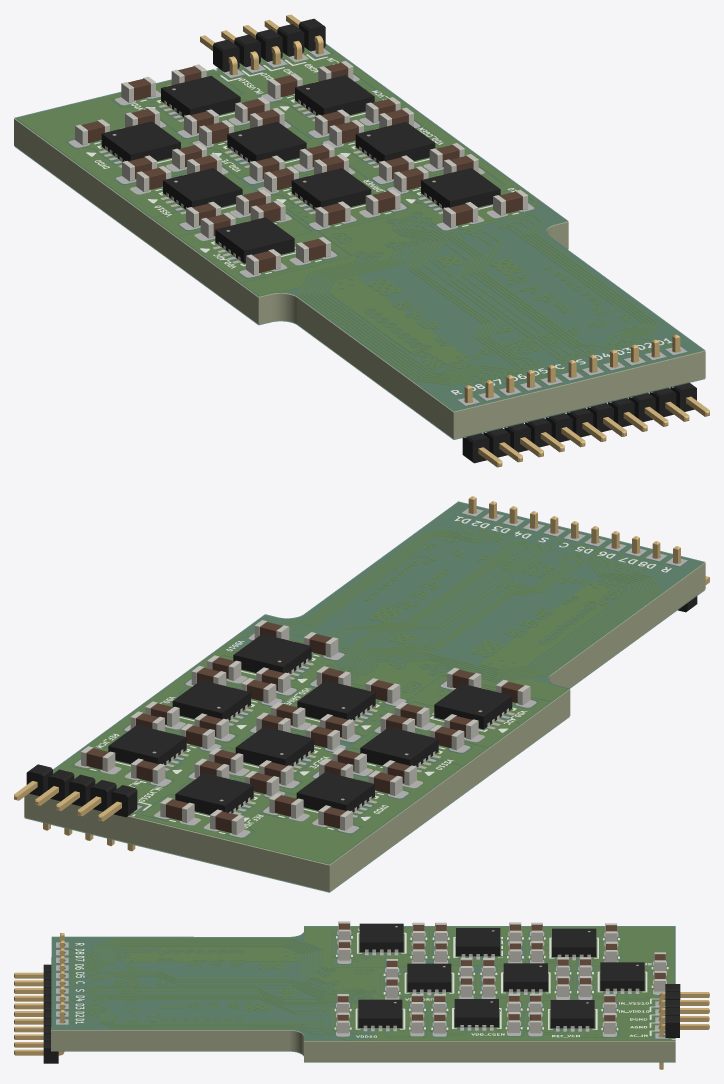
The model's file is LDO.glb.
3 views of the same model, one above another, from view 1: azimuth 30°, elevation 25°; view 2: azimuth 150°, elevation 25°; view 3: azimuth 270°, elevation 25° (orthographic). The views are drawn at different scales.
Parts seen in each view (by area): view 1: =>[0:1:1:23], =>[0:1:1:25], =>[0:1:1:18], =>[0:1:1:7] (×9), =>[0:1:1:3] (×16), =>[0:1:1:19], =>[0:1:1:21], =>[0:1:1:5] (×2), =>[0:1:1:24]; view 2: =>[0:1:1:23], =>[0:1:1:25], =>[0:1:1:18], =>[0:1:1:7] (×9), =>[0:1:1:5] (×13), =>[0:1:1:19], =>[0:1:1:3] (×5), =>[0:1:1:21], =>[0:1:1:24]; view 3: =>[0:1:1:23], =>[0:1:1:25], =>[0:1:1:18], =>[0:1:1:7] (×9), =>[0:1:1:3] (×16), =>[0:1:1:5] (×14), =>[0:1:1:19], =>[0:1:1:21], =>[0:1:1:24].
Boxes of the visible parts, x1,y1,x2,y2 form: =>[0:1:1:23]: (14, 43, 705, 411); =>[0:1:1:25]: (14, 45, 705, 438); =>[0:1:1:18]: (18, 46, 671, 395); =>[0:1:1:7] (×9): (101, 75, 500, 263); =>[0:1:1:3] (×16): (200, 14, 709, 467); =>[0:1:1:19]: (68, 48, 687, 405); =>[0:1:1:21]: (86, 54, 672, 394); =>[0:1:1:5] (×2): (315, 189, 400, 227); =>[0:1:1:24]: (14, 146, 704, 439); =>[0:1:1:23]: (53, 501, 704, 864); =>[0:1:1:25]: (24, 503, 705, 891); =>[0:1:1:18]: (53, 515, 665, 863); =>[0:1:1:7] (×9): (108, 634, 512, 814); =>[0:1:1:5] (×13): (81, 632, 464, 834); =>[0:1:1:19]: (74, 508, 687, 837); =>[0:1:1:3] (×5): (14, 764, 137, 851); =>[0:1:1:21]: (65, 516, 671, 833); =>[0:1:1:24]: (24, 590, 704, 892); =>[0:1:1:23]: (51, 926, 675, 1040); =>[0:1:1:25]: (51, 927, 675, 1061); =>[0:1:1:18]: (68, 927, 673, 1040); =>[0:1:1:7] (×9): (358, 923, 644, 1028); =>[0:1:1:3] (×16): (14, 933, 709, 1069); =>[0:1:1:5] (×14): (337, 922, 617, 1033); =>[0:1:1:19]: (56, 930, 667, 1038); =>[0:1:1:21]: (75, 928, 675, 1039); =>[0:1:1:24]: (51, 1051, 675, 1062).
Bounding box in the file's own units: 0.0183 × 0.00422 × 0.0468.
